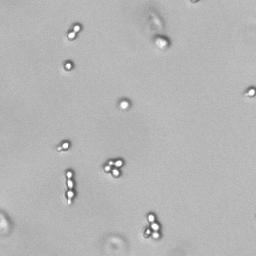budding: (66, 23, 82, 43), (64, 170, 75, 189), (55, 141, 71, 153), (64, 189, 76, 205), (243, 87, 256, 99)
cluster: (142, 211, 162, 241), (102, 157, 125, 179)
individual: (117, 98, 130, 112), (63, 60, 74, 72)
